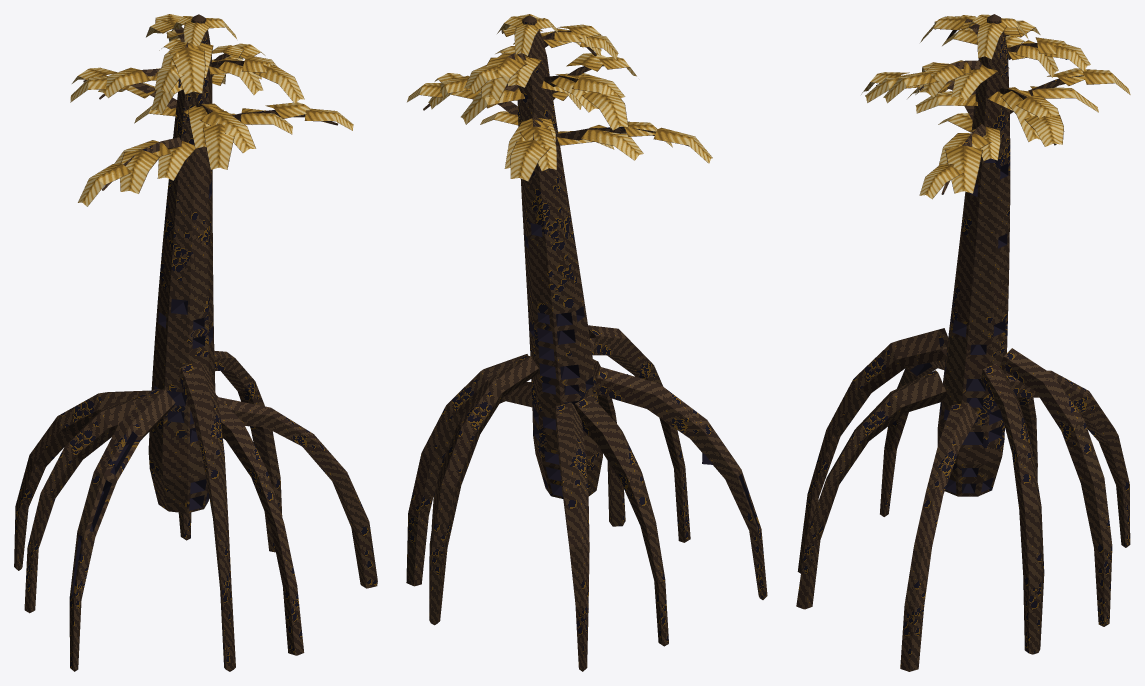
File: arbolZancudo1.gltf
3 renders of one model, left to right at view 1: azimuth 30°, elevation 25°; view 2: azimuth 150°, elevation 25°; view 3: azimuth 270°, elevation 25°, orthographic. The views are drawn at different scales.
Parts seen in each view (by area): view 1: FLO-02_Arbol_zancudo_b.056; view 2: FLO-02_Arbol_zancudo_b.056; view 3: FLO-02_Arbol_zancudo_b.056.
Part boxes in pixels (<box>): FLO-02_Arbol_zancudo_b.056: <box>14,14,377,671</box>; FLO-02_Arbol_zancudo_b.056: <box>406,14,767,671</box>; FLO-02_Arbol_zancudo_b.056: <box>796,14,1130,671</box>.
Bounding box in the file's own units: 5.96 × 10.26 × 5.25.
Materials: 1 (1 with a texture image).
